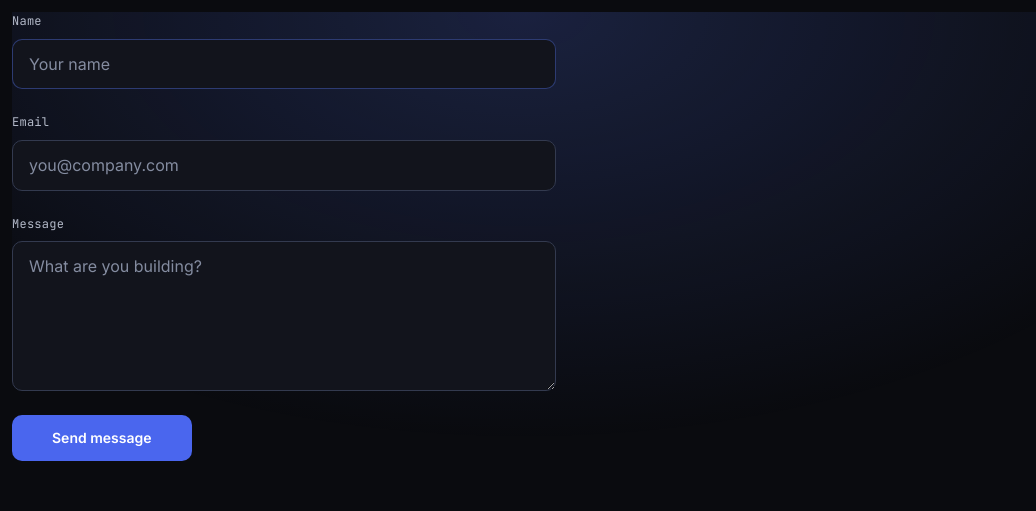
Test case: ContactForm › rejects a message that is too short to answer
Type "hi" into the text box labelled "Message" at (284, 316), box x1=12 y1=241 x2=556 y2=391
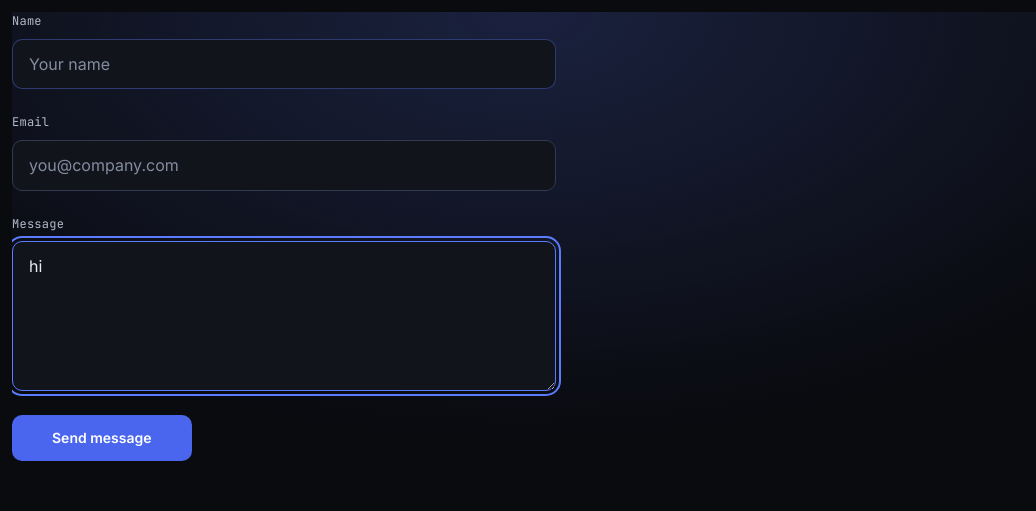
Press Tab
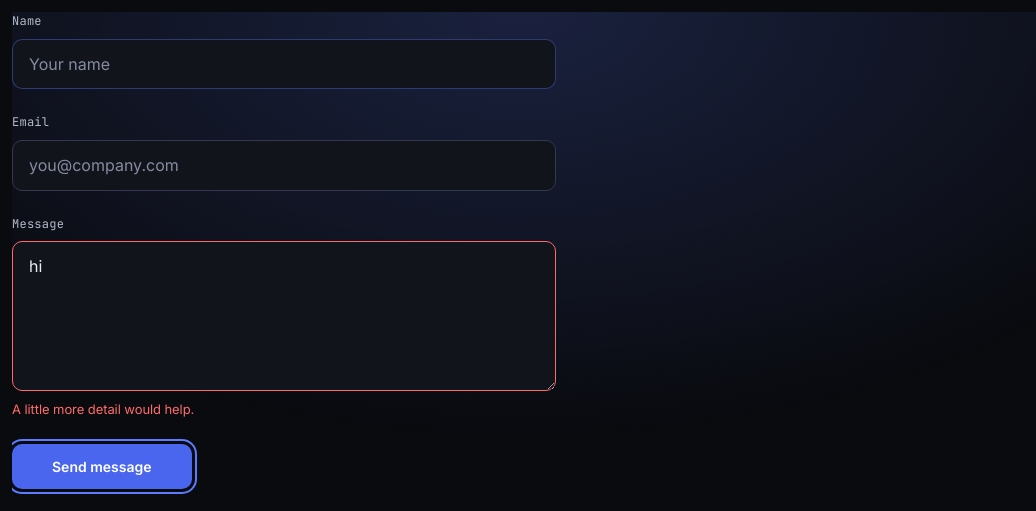
Check: the text "A little more detail would help." is shown, box x1=12 y1=401 x2=194 y2=417
